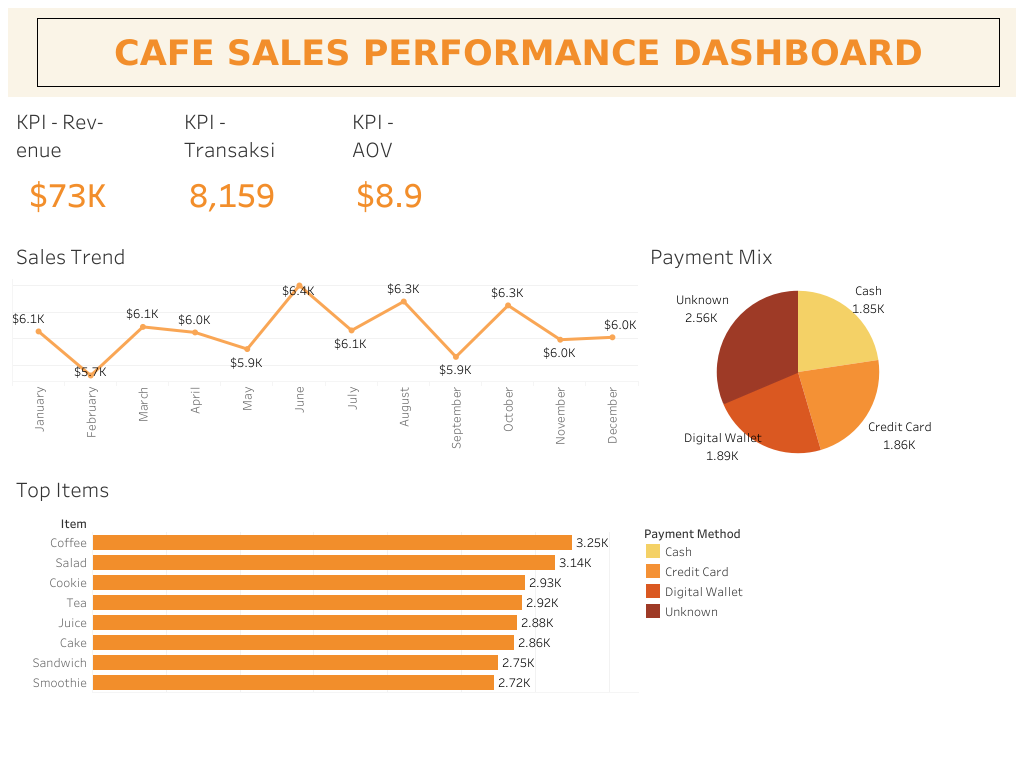

What the dashboard file says about the page in this screenshot:
{"tool":"tableau","page":{"name":"Dashboard 2","canvas":[1024,768],"ordinal":0},"visuals":[{"type":"text","box":[37.1,17.9,962.6,69.1]},{"type":"worksheet","title":"KPI - Revenue","mark":"Automatic","box":[8,96.8,168,123]},{"type":"worksheet","title":"KPI - Transaksi","mark":"Automatic","box":[176,96.8,168,123]},{"type":"worksheet","title":"KPI - AOV","mark":"Automatic","box":[344,96.8,672,123]},{"type":"worksheet","title":"Sales Trend","mark":"Automatic","rows":["total_spent"],"cols":["transaction_date"],"box":[8,232,633.9,233]},{"type":"worksheet","title":"Payment Mix","mark":"Pie","box":[641.9,232,374.1,237]},{"type":"worksheet","title":"Top Items","mark":"Automatic","rows":["item"],"cols":["quantity"],"box":[8,465,633.9,231]},{"type":"legend","title":"Payment Mix","param":"[federated.1c6tpje0hr4r6h15gvdeh073acm1].[none:payment_method:nk]","box":[643,522,269,121]}]}

Visuals, with their boxes in screenshot pixels (x1, y1, x2, y2), scaled from the page's 1024x768 canvas onto the 1023x767 screenshot:
text: BBox(37, 18, 999, 87)
"KPI - Revenue" worksheet: BBox(8, 97, 176, 220)
"KPI - Transaksi" worksheet: BBox(176, 97, 344, 220)
"KPI - AOV" worksheet: BBox(344, 97, 1015, 220)
"Sales Trend" worksheet: BBox(8, 232, 641, 464)
"Payment Mix" worksheet (Pie marks): BBox(641, 232, 1015, 468)
"Top Items" worksheet: BBox(8, 464, 641, 695)
"Payment Mix" legend: BBox(642, 521, 911, 642)
